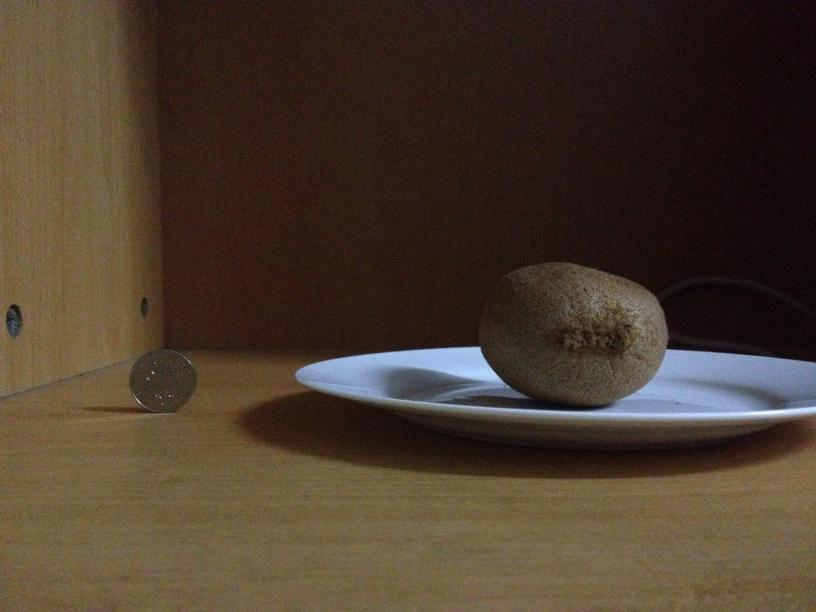coin: (128, 347, 198, 411)
qiwi: (479, 261, 667, 406)
